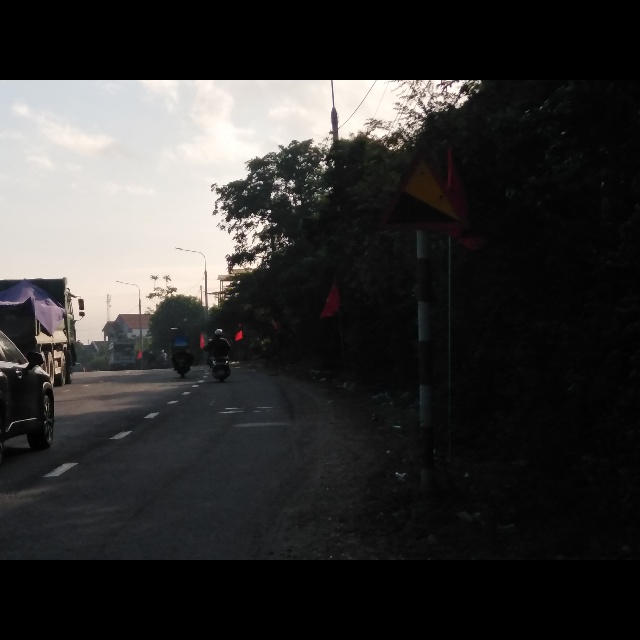Dốc lên nguy hiểm: (377, 147, 468, 234)
